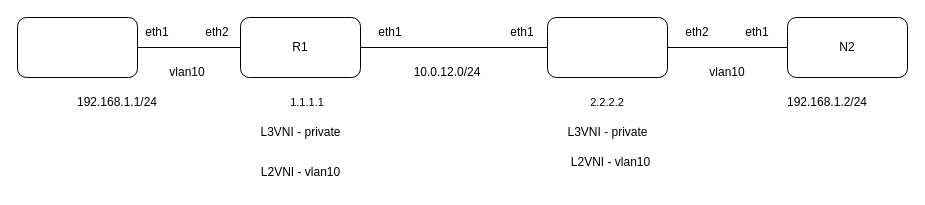
Image size: 925x205. Some labels were removed from this diagram. Here are the shapes that lost their labels. From the top down, the centre of each, then its label:
At point (77, 47): "N1".
At point (607, 47): "R2".
